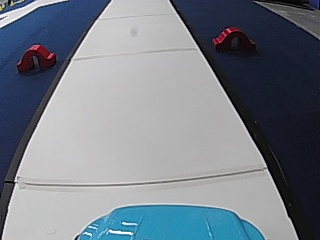bridge: (209, 23, 256, 52), (14, 41, 56, 73)
